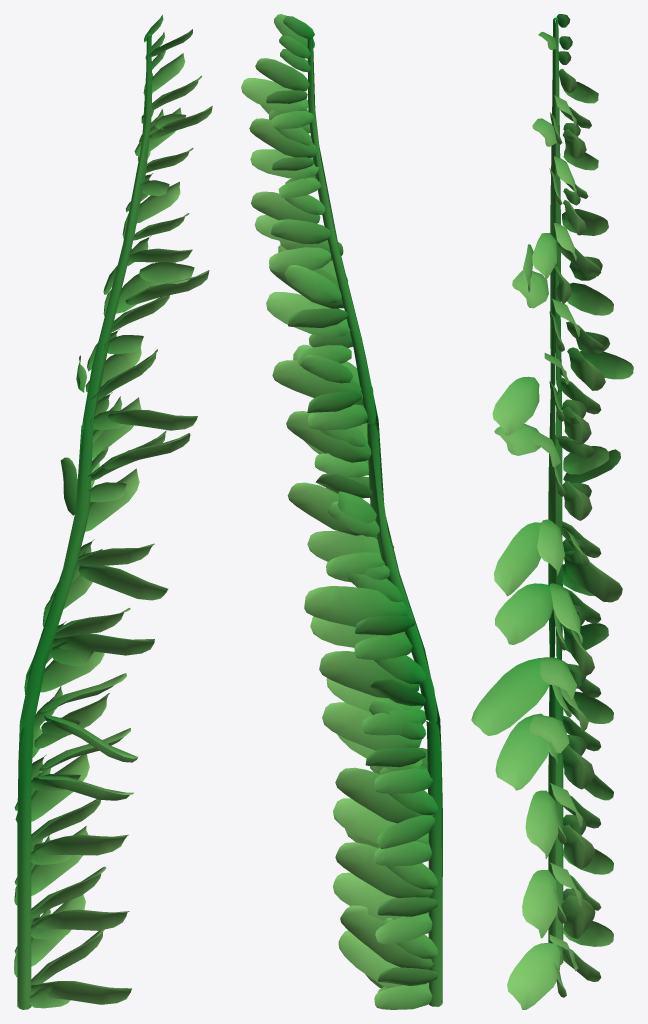
The model's file is kelp3.obj.
3 views of the same model, side by side, from view 1: azimuth 30°, elevation 25°; view 2: azimuth 150°, elevation 25°; view 3: azimuth 270°, elevation 25° (orthographic). The views are drawn at different scales.
Parts seen in each view (by area): view 1: Leaf12_meshId12_name; view 2: Leaf12_meshId12_name; view 3: Leaf12_meshId12_name.
Part boxes in pixels (box(x1,y1,x2,y2)): Leaf12_meshId12_name: box(14, 14, 212, 1009); Leaf12_meshId12_name: box(241, 14, 442, 1009); Leaf12_meshId12_name: box(471, 14, 633, 1009).
Size of the model in its own units: 0.5429 by 2.62 by 0.3735.
Materials: 1 (1 with a texture image).
